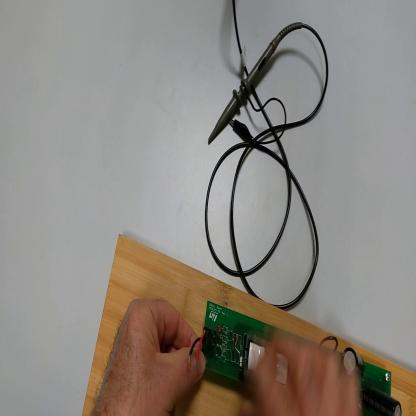hand: (91, 296, 206, 416), (244, 333, 365, 414)
high voltage board: (188, 301, 401, 416)
oscilloscope probe tip: (207, 28, 282, 148)
working area: (71, 233, 416, 416)
